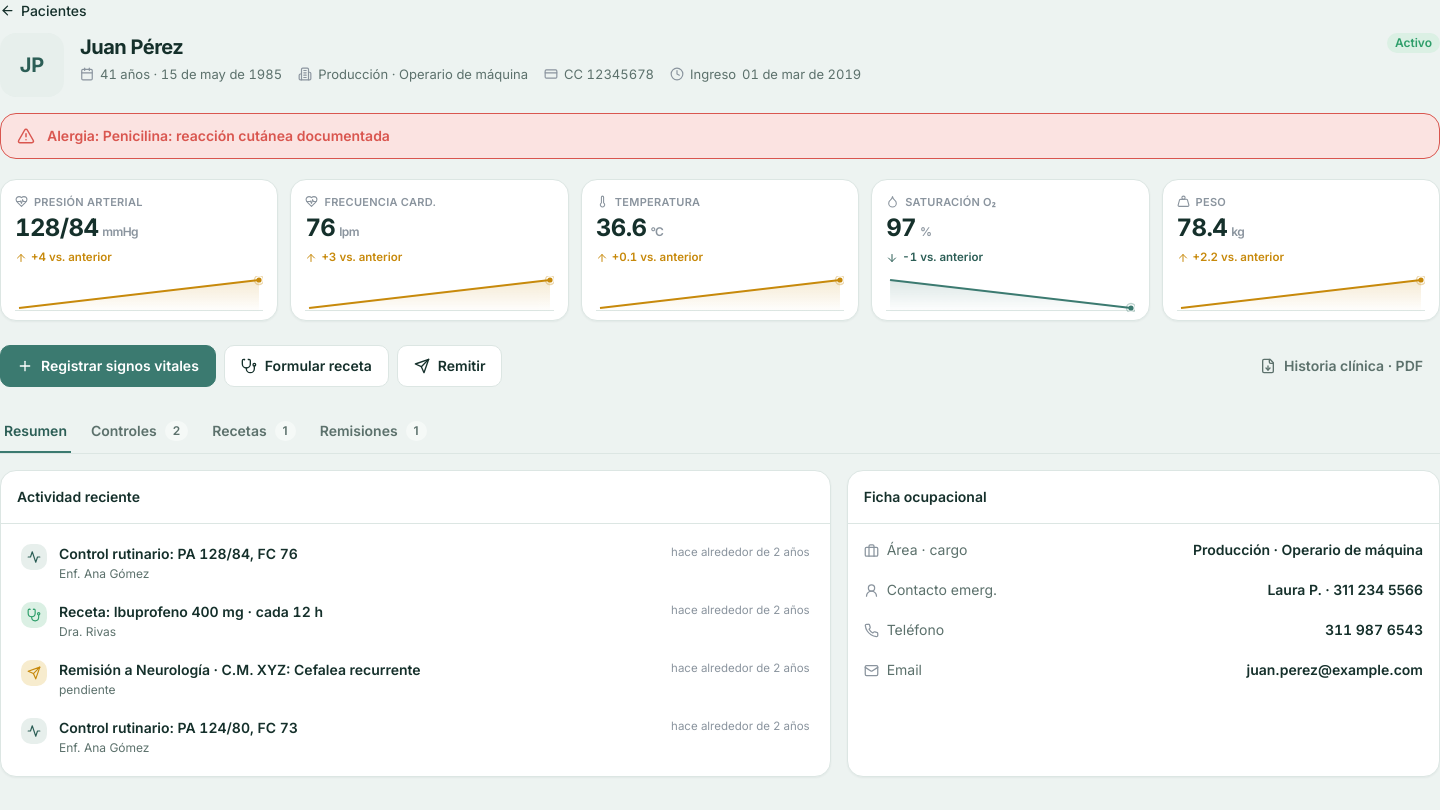
el botón de acción abre el modal con el paciente fijo
Check: the heading "Juan Pérez" is shown, box 80,34 -> 183,58
Click the button "Registrar signos vitales": (108, 366) 0,345 -> 216,387
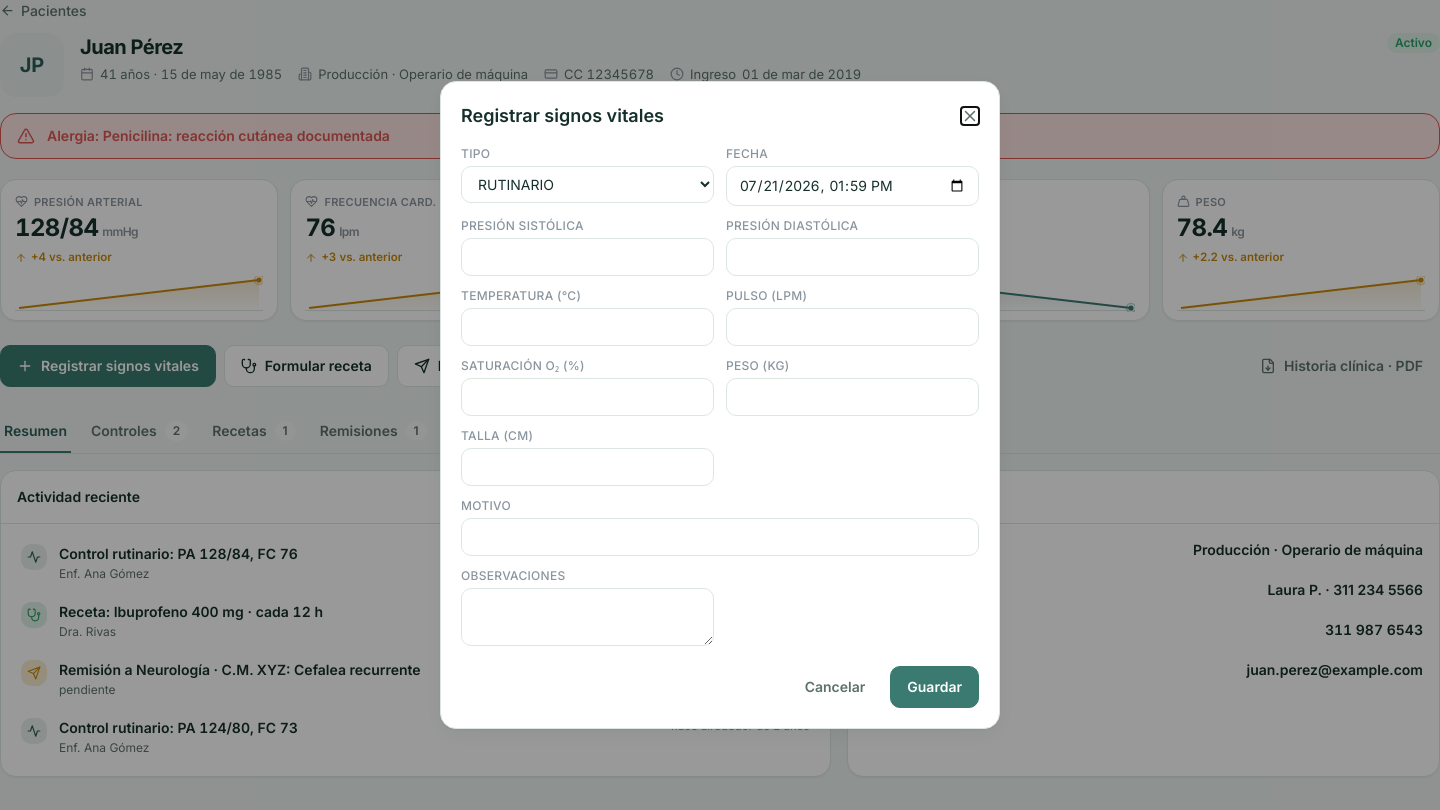
Check: the heading "Registrar signos vitales" is shown, box 461,102 -> 664,130
